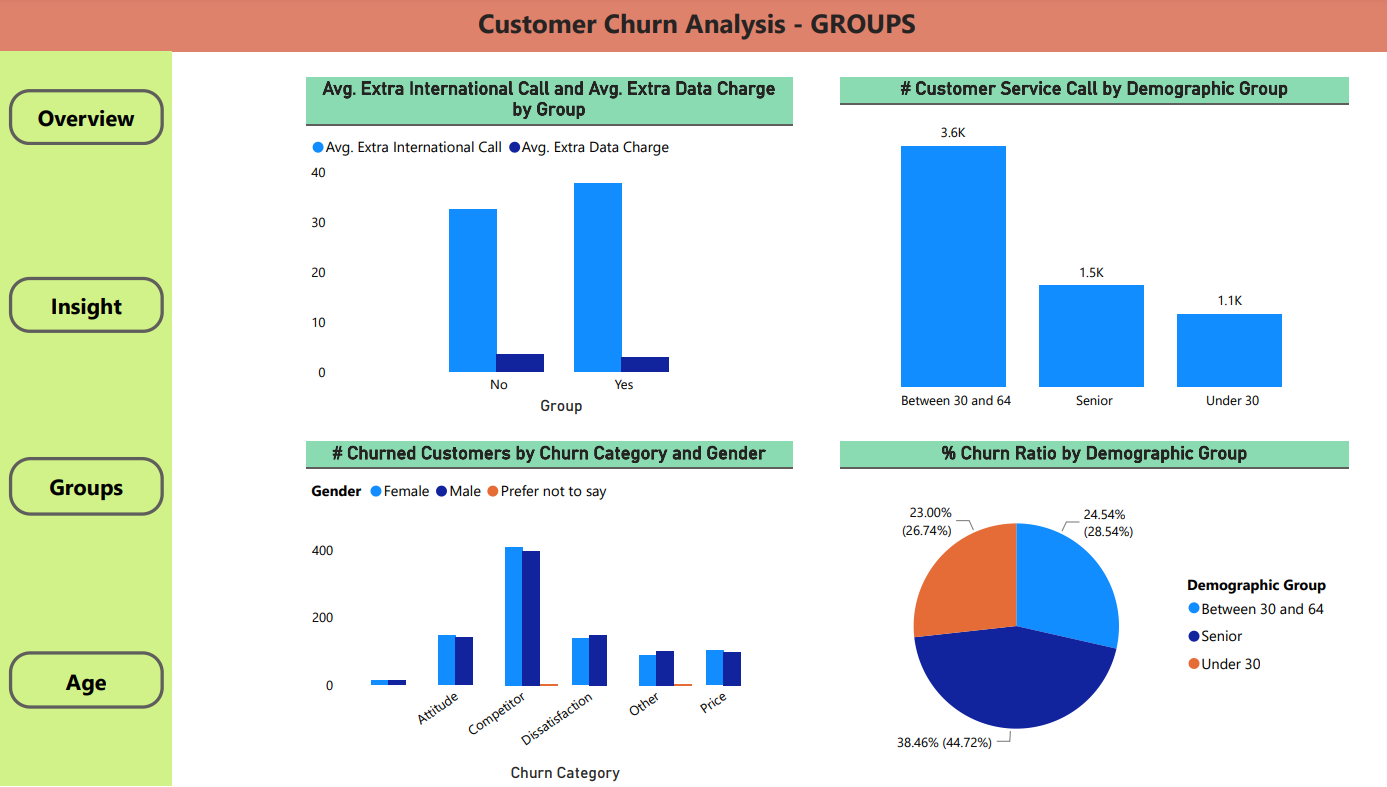

What the dashboard file says about the page in this screenshot:
{"tool":"powerbi","page":{"name":"Groups","canvas":[1280,720],"ordinal":2},"visuals":[{"type":"textbox","box":[0,0,1280,47.7],"z":0},{"type":"textbox","box":[0,47.3,158.6,673.4],"z":1000},{"type":"pieChart","fields":{"Category":["Churn Data.Demographic Group"],"Y":["_DAX_Measures.% Churn Ratio"]},"box":[771.3,404.6,465.7,311.7],"z":2000},{"type":"clusteredColumnChart","fields":{"Category":["Churn Data.Churn Category"],"Y":["_DAX_Measures.# Churned Customers"],"Series":["Churn Data.Gender"]},"box":[282.4,404.9,445.2,315.8],"z":3000},{"type":"clusteredColumnChart","fields":{"Category":["Churn Data.Group"],"Y":["_DAX_Measures.Avg. Extra International Call","_DAX_Measures.Avg. Extra Data Charge"]},"box":[282.4,70.9,445,312.9],"z":4000},{"type":"actionButton","box":[9.8,81.9,141.8,51.3],"z":5000},{"type":"actionButton","box":[9.8,254.3,141.8,51.3],"z":6000},{"type":"actionButton","box":[9.8,596.5,141.8,52.6],"z":7000},{"type":"actionButton","box":[9.8,419.3,141.8,53.8],"z":8000},{"type":"clusteredColumnChart","fields":{"Y":["_DAX_Measures.# Customer Service Call"],"Category":["Churn Data.Demographic Group"]},"box":[771.3,70.9,465.7,312.9],"z":9000}]}

Visuals, with their boxes in screenshot pixels (x1, y1, x2, y2), scaled from the page's 1280x720 canvas onto the 1387x787 screenshot:
textbox: (0,0,1386,52)
textbox: (0,52,172,786)
pieChart - Churn Data.Demographic Group x _DAX_Measures.% Churn Ratio: (836,442,1340,783)
clusteredColumnChart - Churn Data.Churn Category x _DAX_Measures.# Churned Customers: (306,443,788,786)
clusteredColumnChart - Churn Data.Group x _DAX_Measures.Avg. Extra International Call: (306,77,788,420)
actionButton: (11,90,164,146)
actionButton: (11,278,164,334)
actionButton: (11,652,164,710)
actionButton: (11,458,164,517)
clusteredColumnChart - _DAX_Measures.# Customer Service Call x Churn Data.Demographic Group: (836,77,1340,420)
